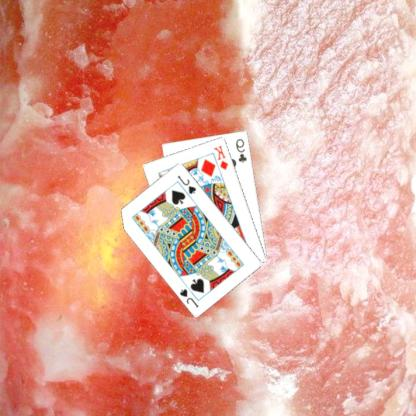9C: (235, 136, 250, 164)
JS: (176, 172, 200, 196), (178, 286, 202, 309)
KD: (213, 143, 231, 171)
